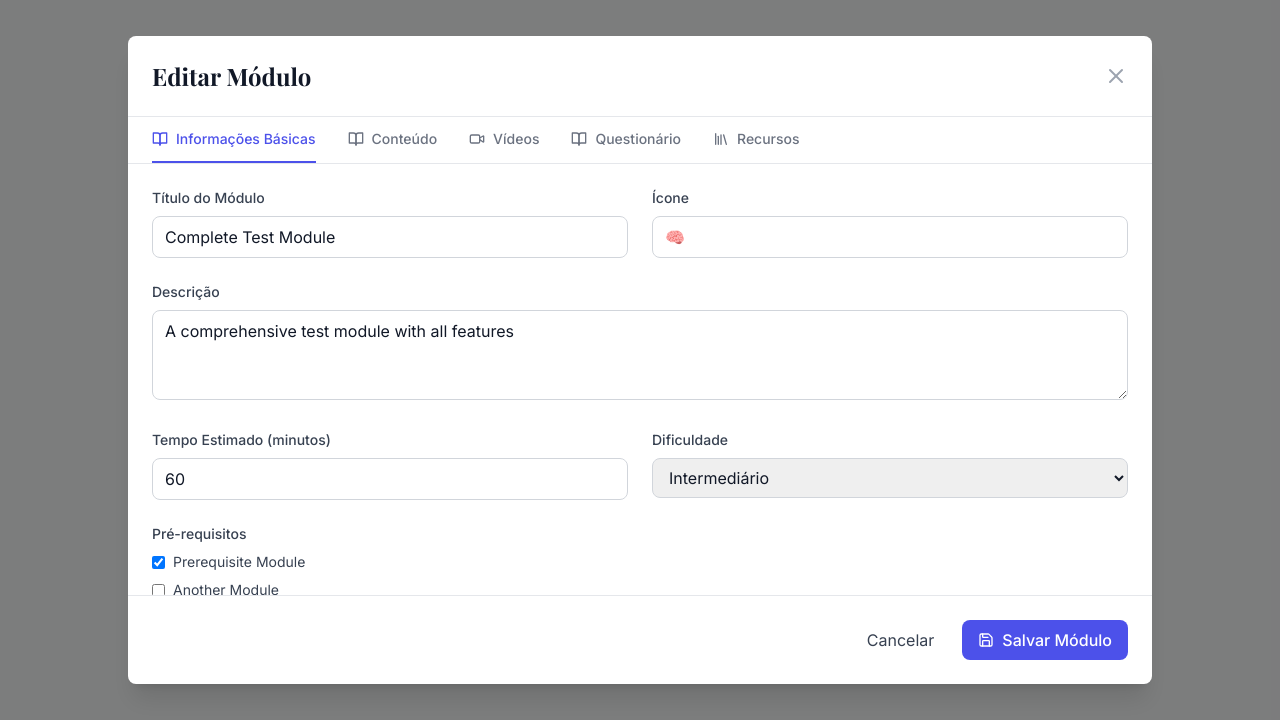
Test: ModuleEditor - Enhanced Coverage › Tab Navigation and Content › switches between all tabs correctly
Click the button "Conteúdo".
click(392, 140)  # box [348,117,437,163]
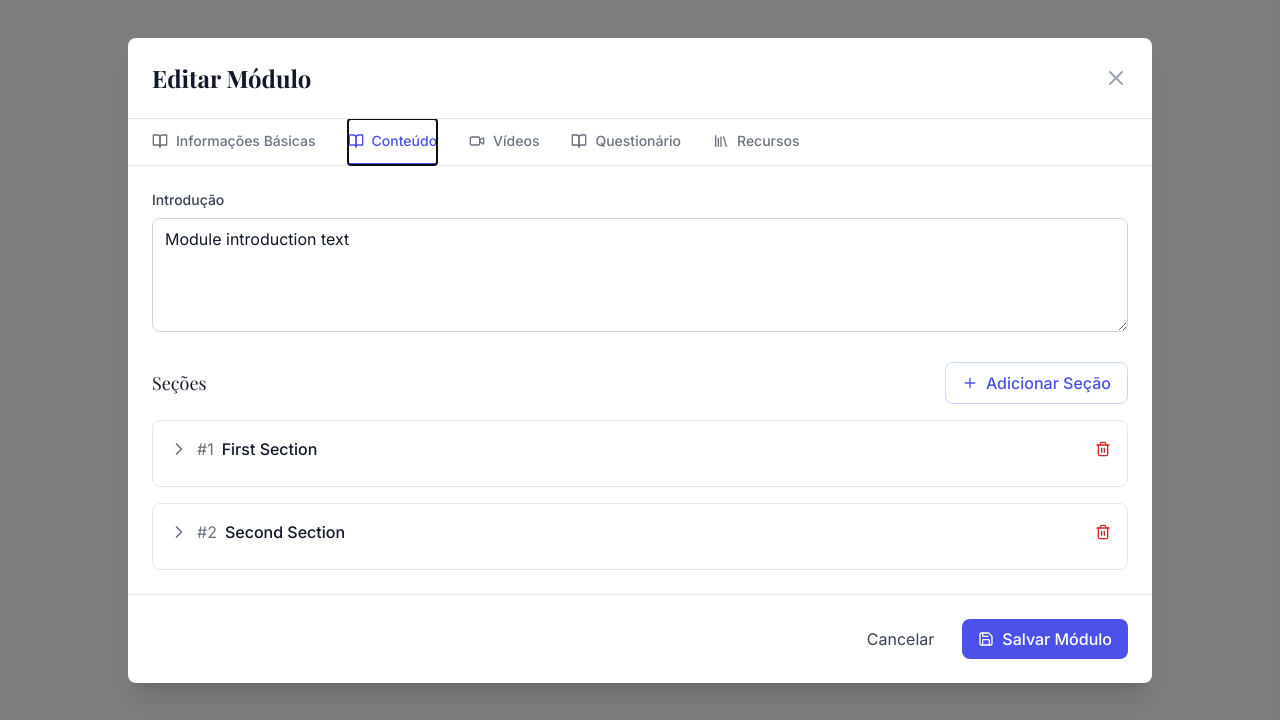
Expected: the text "Introdução" is shown, [152,190,224,208]
Click the button "Vídeos".
click(504, 142)  # box [469,118,539,164]
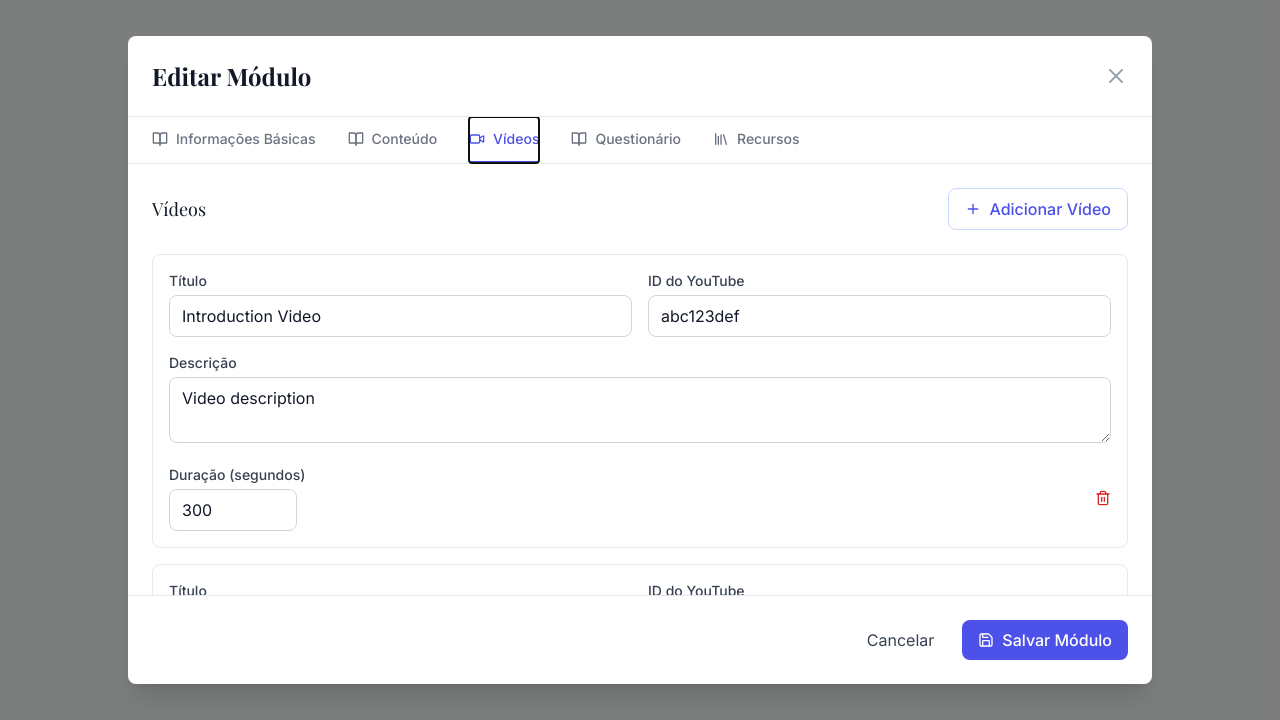
Expected: the text "Vídeos" is shown, [493,129,539,149]
Click the button "Questionário".
click(626, 140)  # box [571,117,681,163]
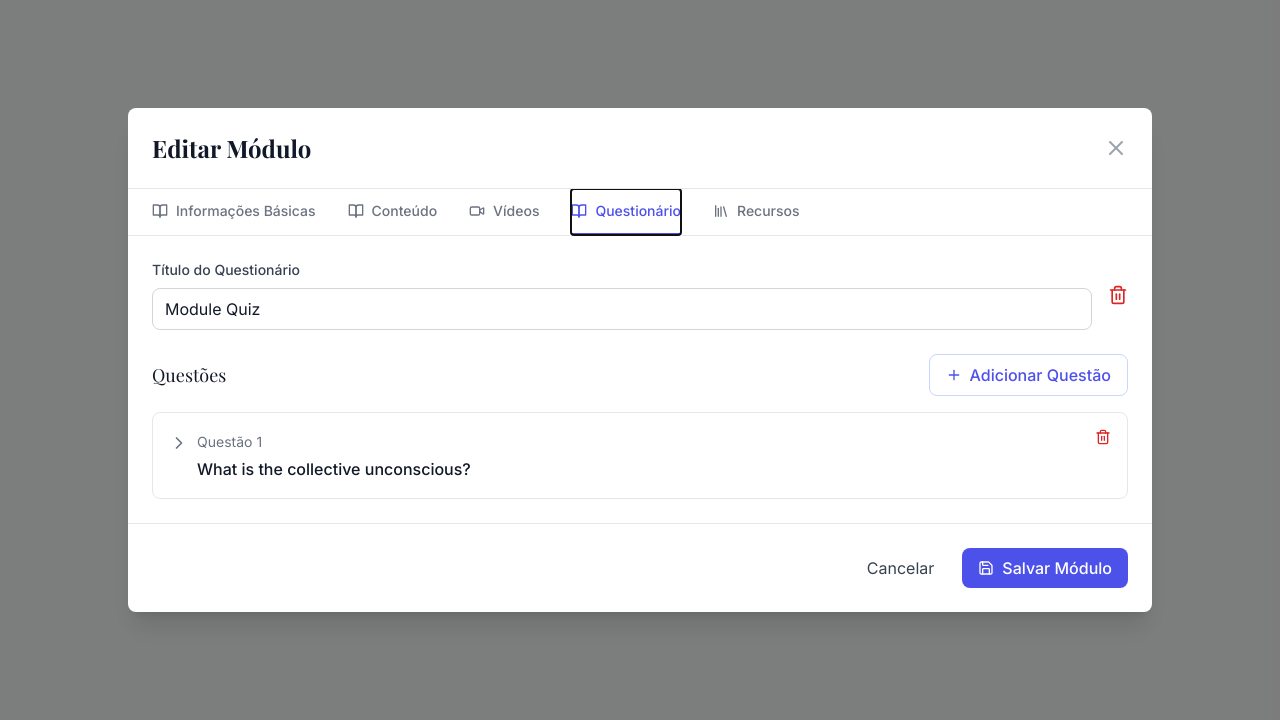
Click the button "Recursos".
click(756, 212)  # box [713,189,800,235]
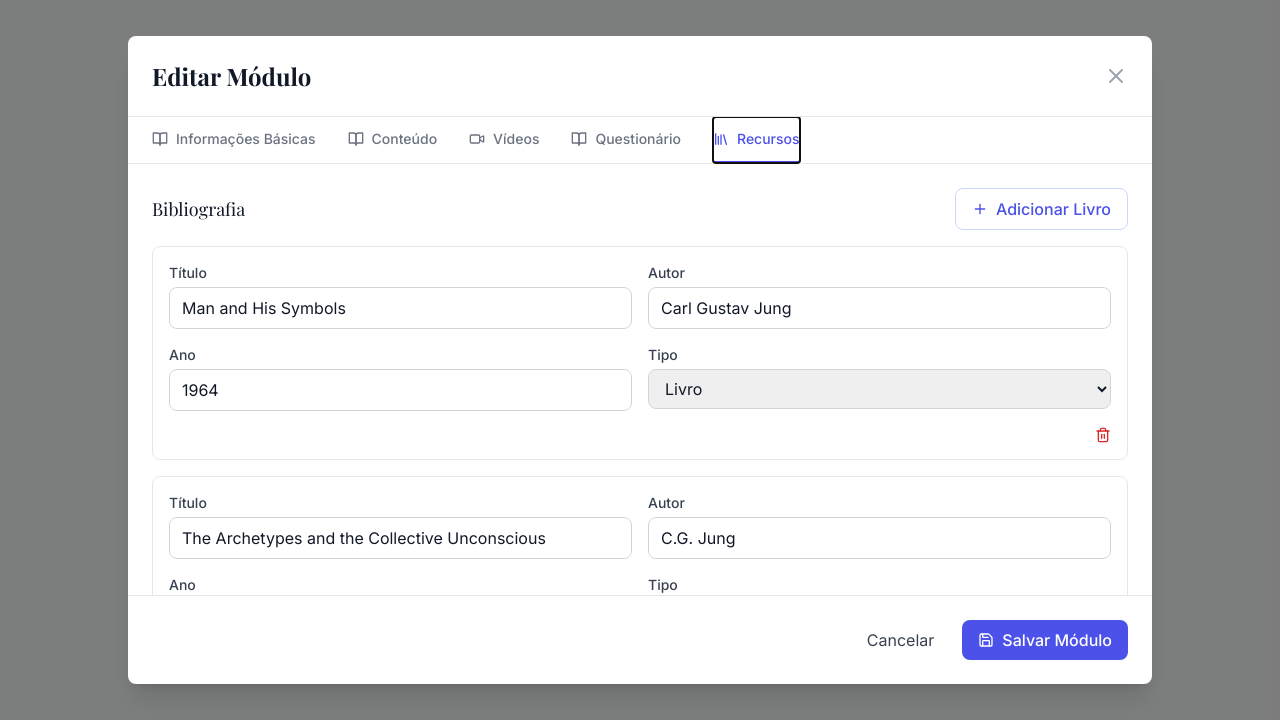
Expected: the heading "Bibliografia" is shown, [152,195,245,223]
Click the button "Informações Básicas".
click(234, 140)  # box [152,117,316,163]
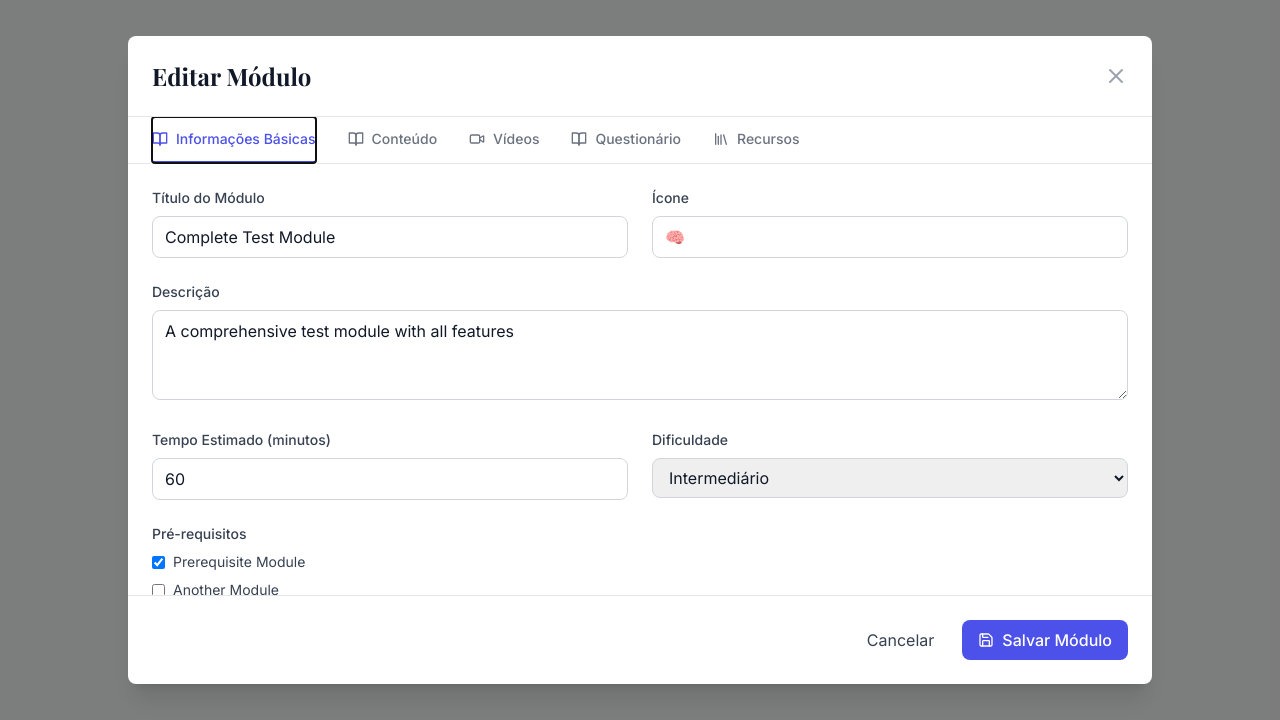
Expected: the text "Título do Módulo" is shown, [152,189,265,206]
